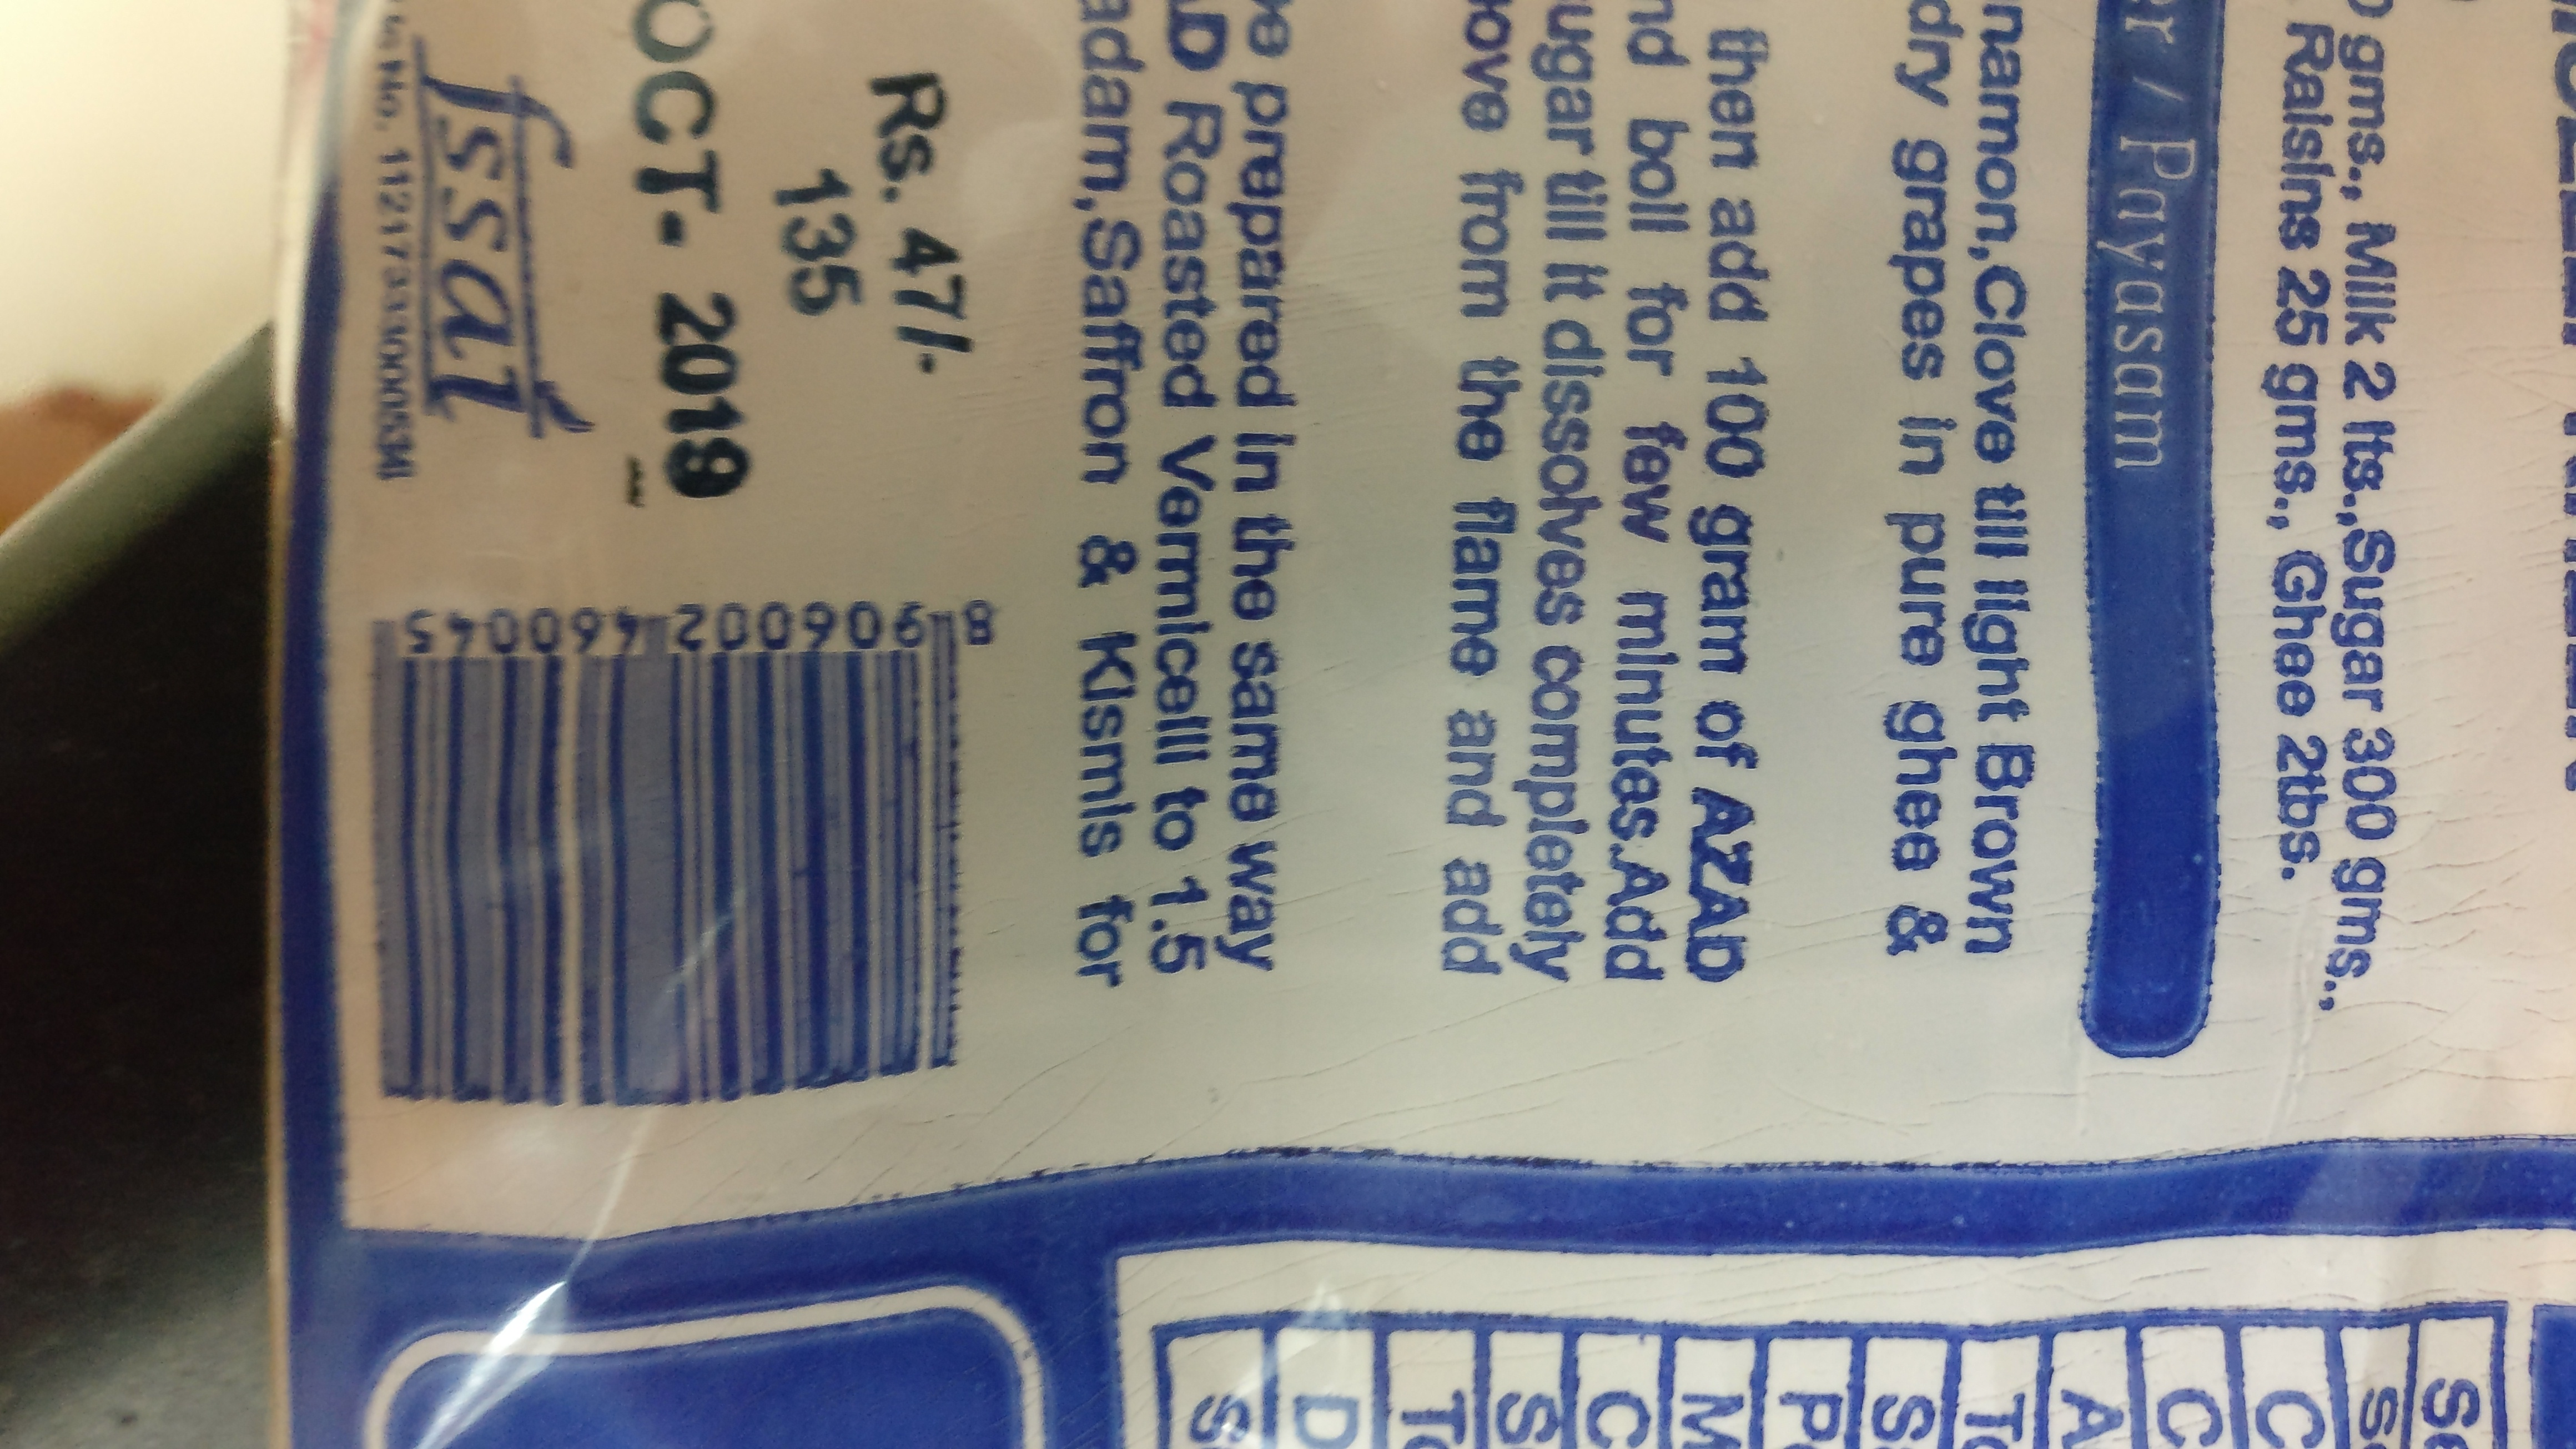barcode: (356, 591, 1010, 1109)
